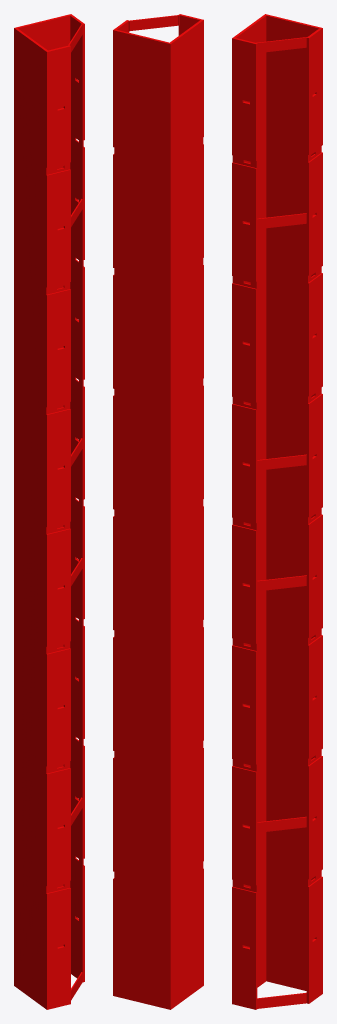
The picture shows the model from 3 angles, left to right: view 1: azimuth 30°, elevation 25°; view 2: azimuth 150°, elevation 25°; view 3: azimuth 330°, elevation 25°; orthographic projection.
Parts seen in each view (by area): view 1: sp-IC6x8; view 2: sp-IC6x8; view 3: sp-IC6x8.
Part boxes in pixels (box(x1,y1,x2,y2)): sp-IC6x8: box(14, 14, 84, 1009); sp-IC6x8: box(113, 14, 203, 1009); sp-IC6x8: box(232, 14, 322, 1009).
Bounding box in the file's own units: 6 × 96 × 6.
